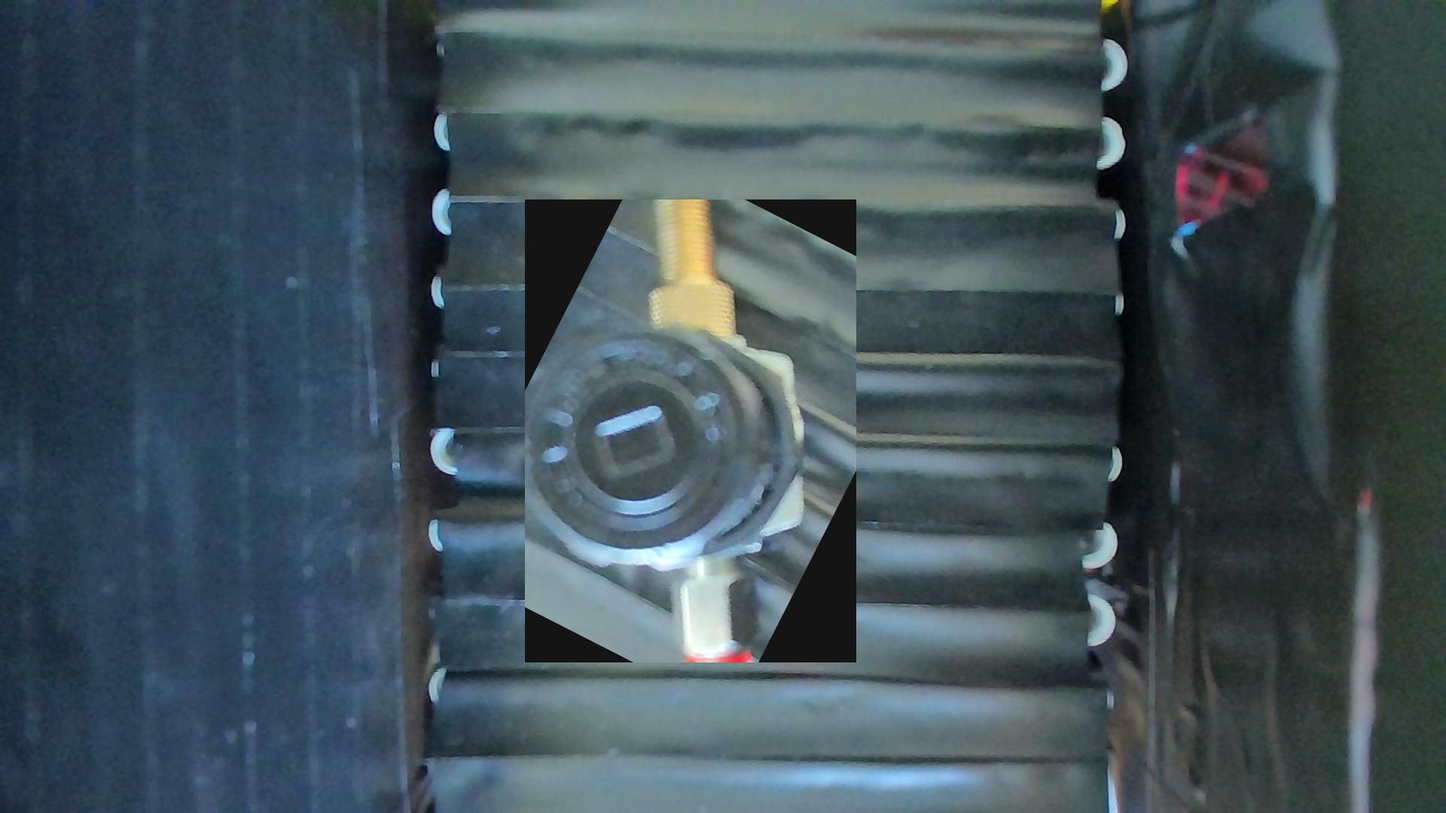regulator: (525, 199, 856, 663)
